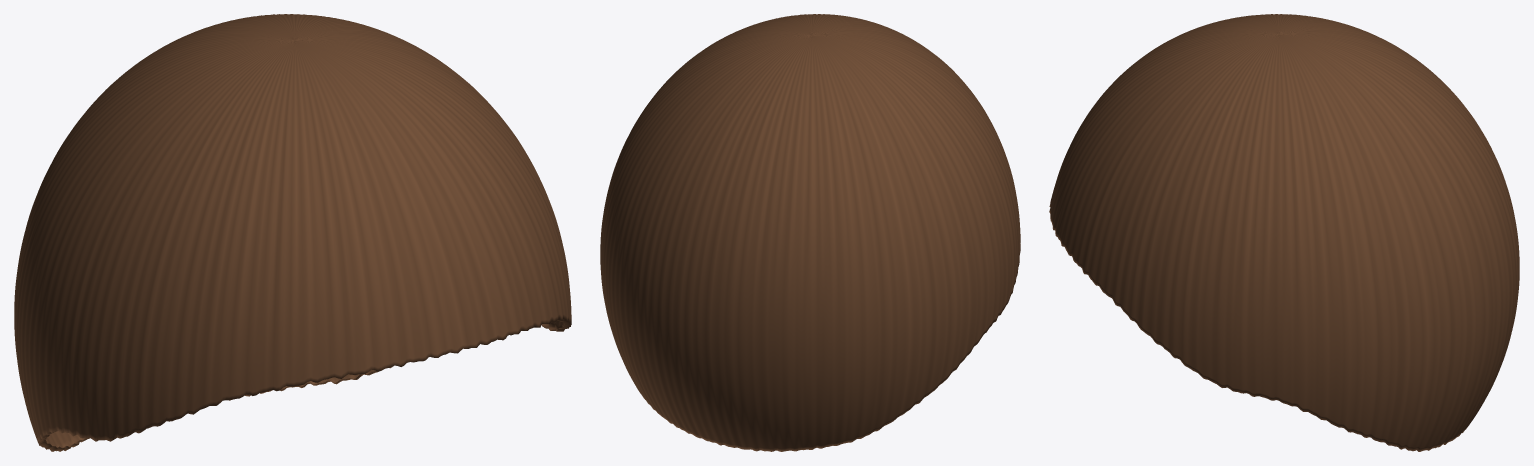
The model's file is LANPASU_Hair_1A_Boy_Bowl_Cut_v001.glb.
The picture shows the model from 3 angles, left to right: view 1: azimuth 30°, elevation 25°; view 2: azimuth 150°, elevation 25°; view 3: azimuth 270°, elevation 25°; orthographic projection. The views are drawn at different scales.
Visible parts, largest first — view 1: Hair_1A_Boy_Bowl_Cut; view 2: Hair_1A_Boy_Bowl_Cut; view 3: Hair_1A_Boy_Bowl_Cut.
Part boxes in pixels (<box>): Hair_1A_Boy_Bowl_Cut: <box>14,14,571,451</box>; Hair_1A_Boy_Bowl_Cut: <box>600,14,1020,451</box>; Hair_1A_Boy_Bowl_Cut: <box>1049,14,1519,451</box>.
Size of the model in its own units: 0.2859 by 0.2636 by 0.2995.
